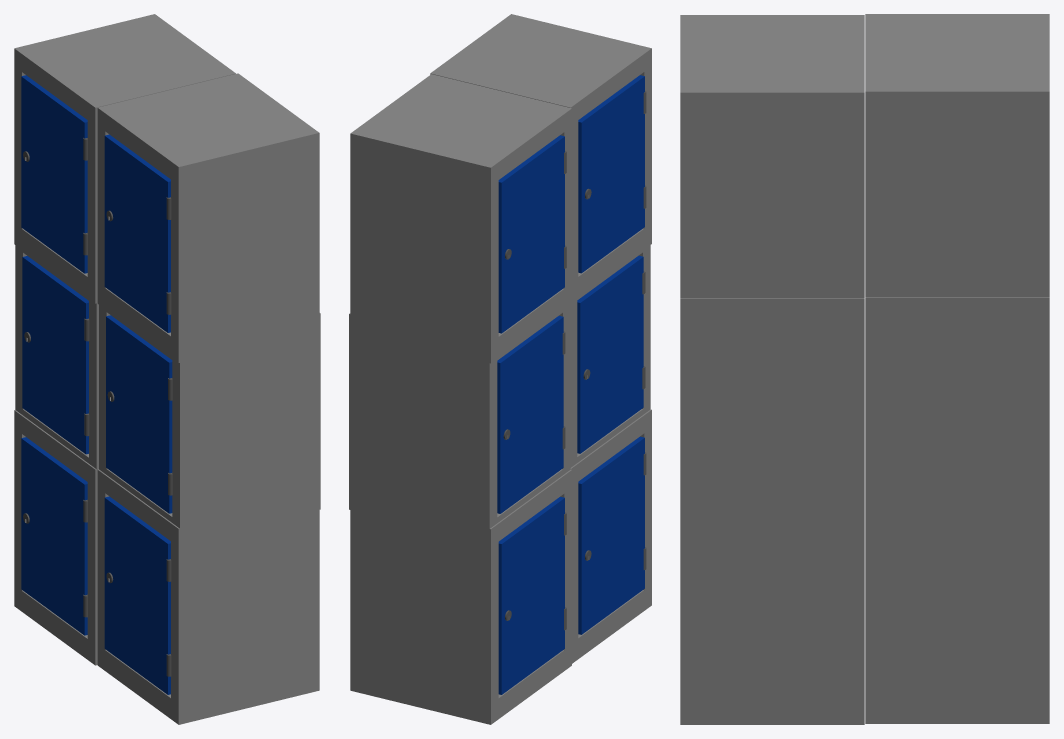
File: Locker_Block.fbx
3 renders of one model, left to right at view 1: azimuth 30°, elevation 25°; view 2: azimuth 150°, elevation 25°; view 3: azimuth 270°, elevation 25°, orthographic. The views are drawn at different scales.
Parts seen in each view (by area): view 1: pCube49; view 2: pCube49; view 3: pCube49.
Boxes of the visible parts, x1=… form: pCube49: x1=14, y1=14, x2=320, y2=724; pCube49: x1=349, y1=14, x2=651, y2=724; pCube49: x1=680, y1=14, x2=1049, y2=724.
Size of the model in its own units: 1.04 by 3.79 by 2.01.
